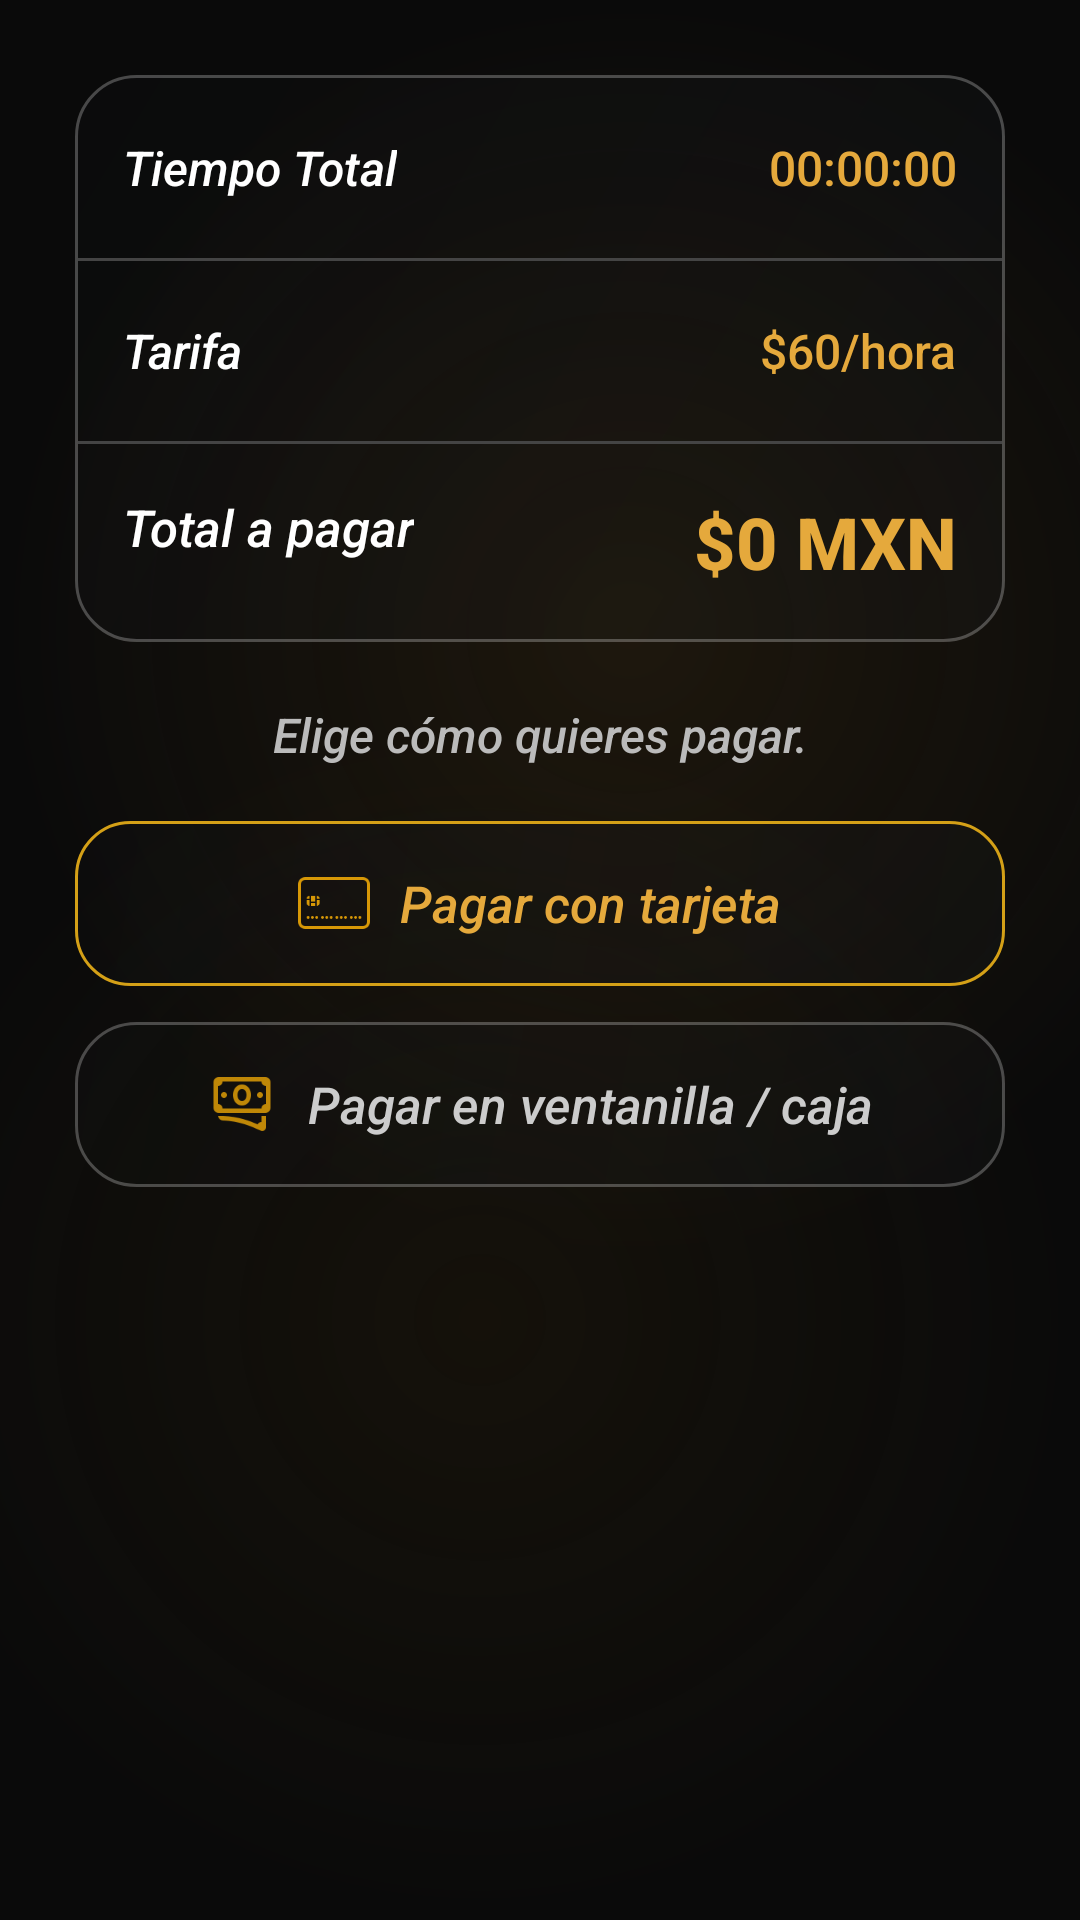

Where icons sit on this 1080x1920 app screen, as (x1, y1, x2, y2):
efectivo: (213, 1077, 271, 1131)
